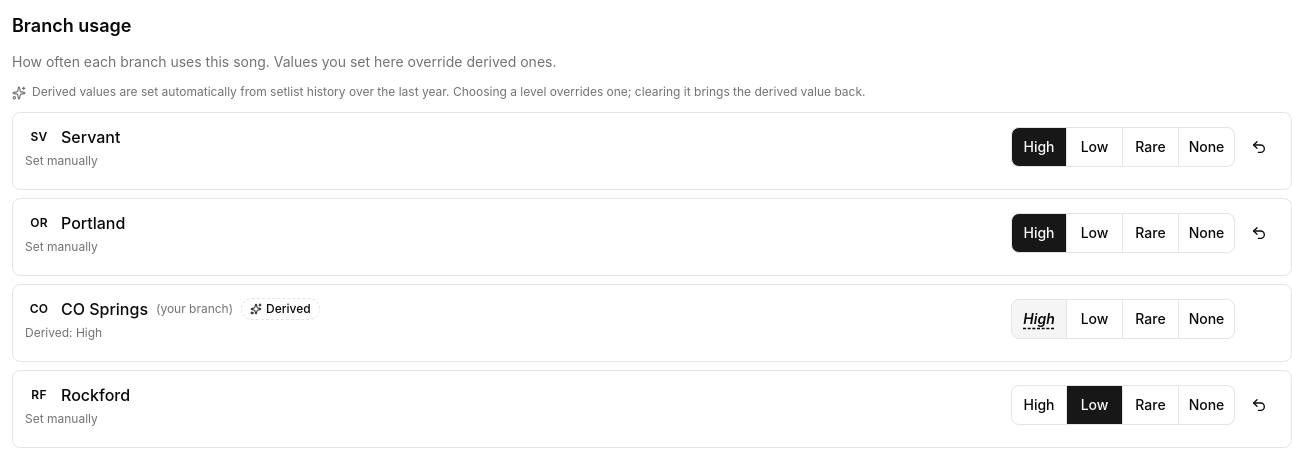
UsageSection › distinguishes derived values and lets a manual value override them
Check: the text "Derived" is shown, box [241,298,320,320]
Check: the text "Derived: High" is shown, box [25,325,102,340]
Click the radio button labelled "Low" in the row of "CO Springs". click: (1095, 319)
box: [1067,299,1123,339]
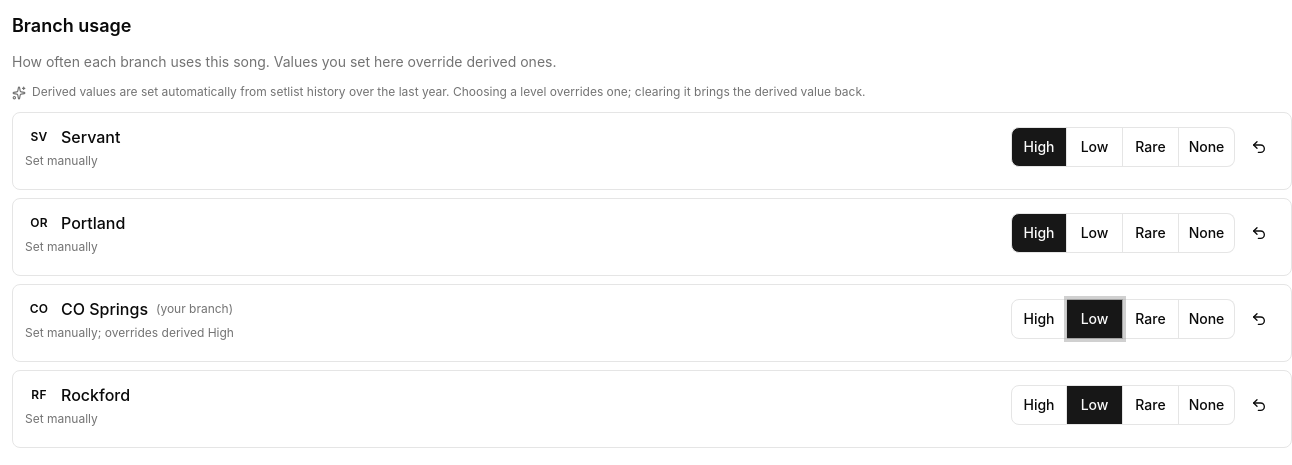
Check: the text "Set manually; overrides derived High" is shown, box [25,325,234,340]
